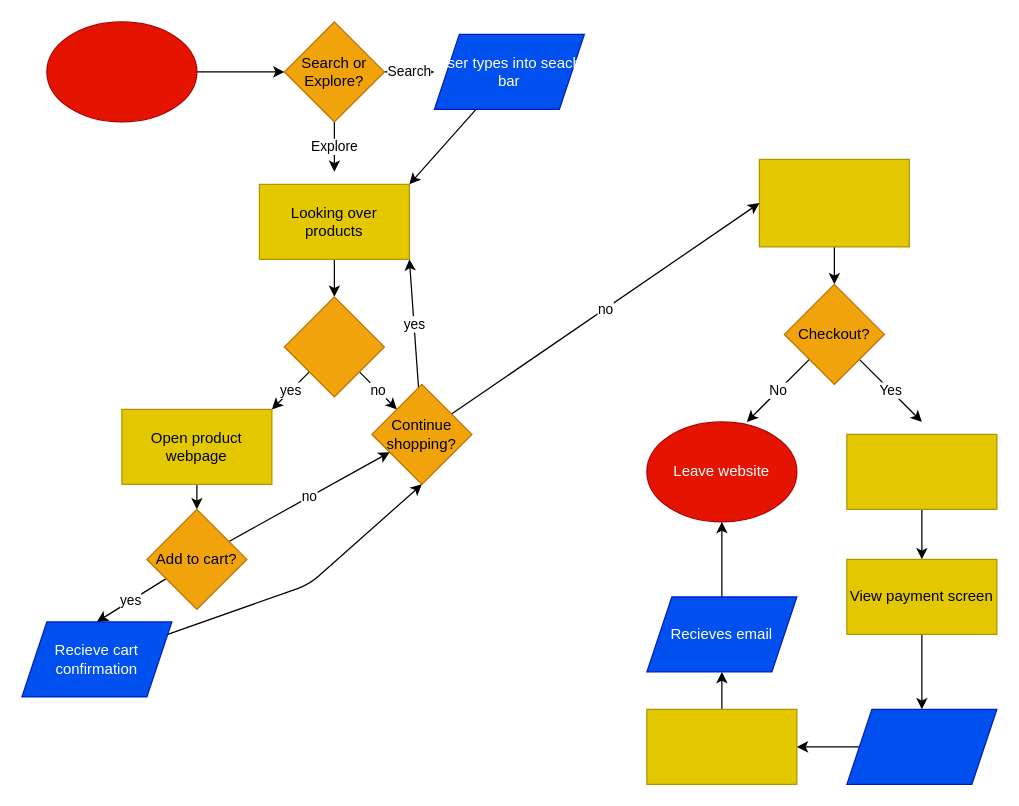
The diagram is 1019 pixels wide and 806 high, and some of its shapes have lost their labels. Each missing label, with the box of its shape:
Enter payment information: (846, 708, 997, 784)
Open Website: (46, 21, 197, 122)
Order confirmation: (646, 708, 797, 784)
Stop shopping: (758, 158, 909, 247)
View cart: (846, 433, 997, 509)
View item?: (283, 296, 384, 397)
